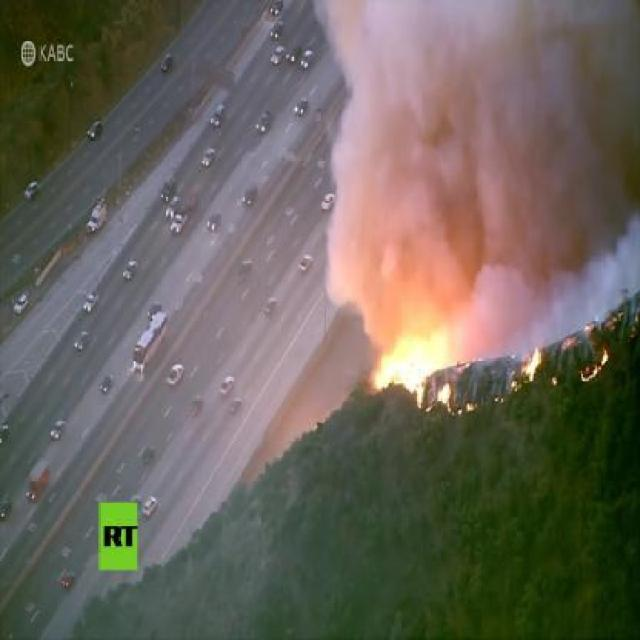Fire: (375, 330, 453, 415), (508, 346, 542, 400), (580, 348, 608, 384)
